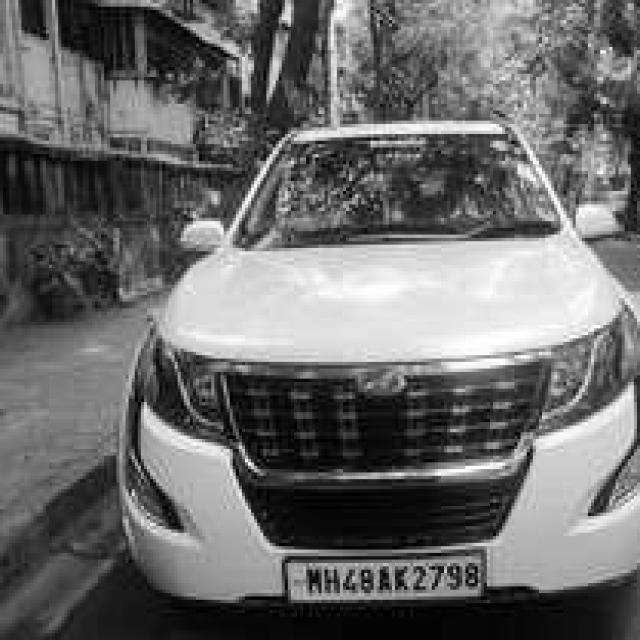car: (116, 120, 640, 610)
license-plate: (282, 553, 484, 603)
